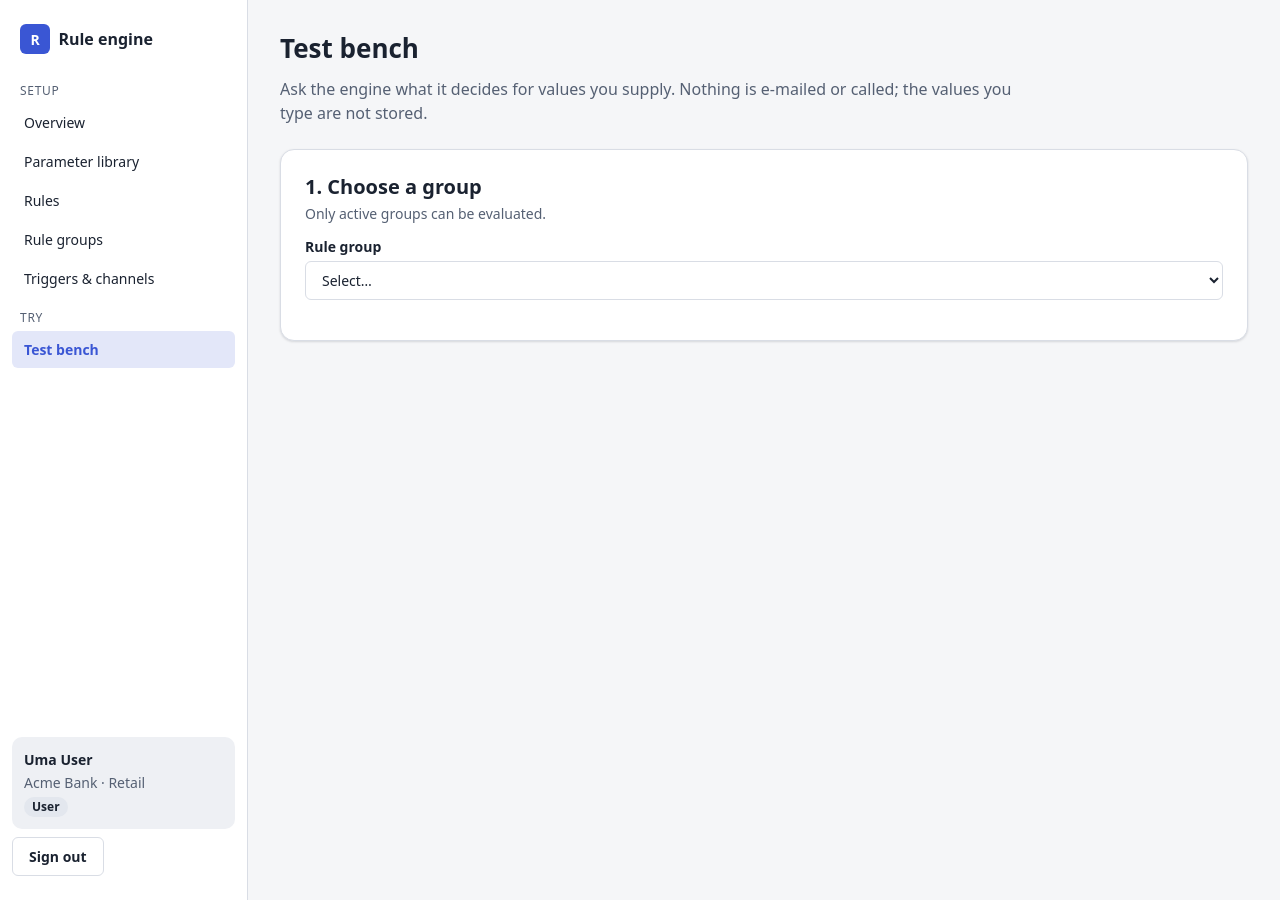
Test case: test bench › asks for the parameters the group reads, evaluates, and shows the decision rule by rule
Select "LOAN · Eligibility" in the dropdown labelled "Rule group": (764, 280) [305, 260, 1223, 300]
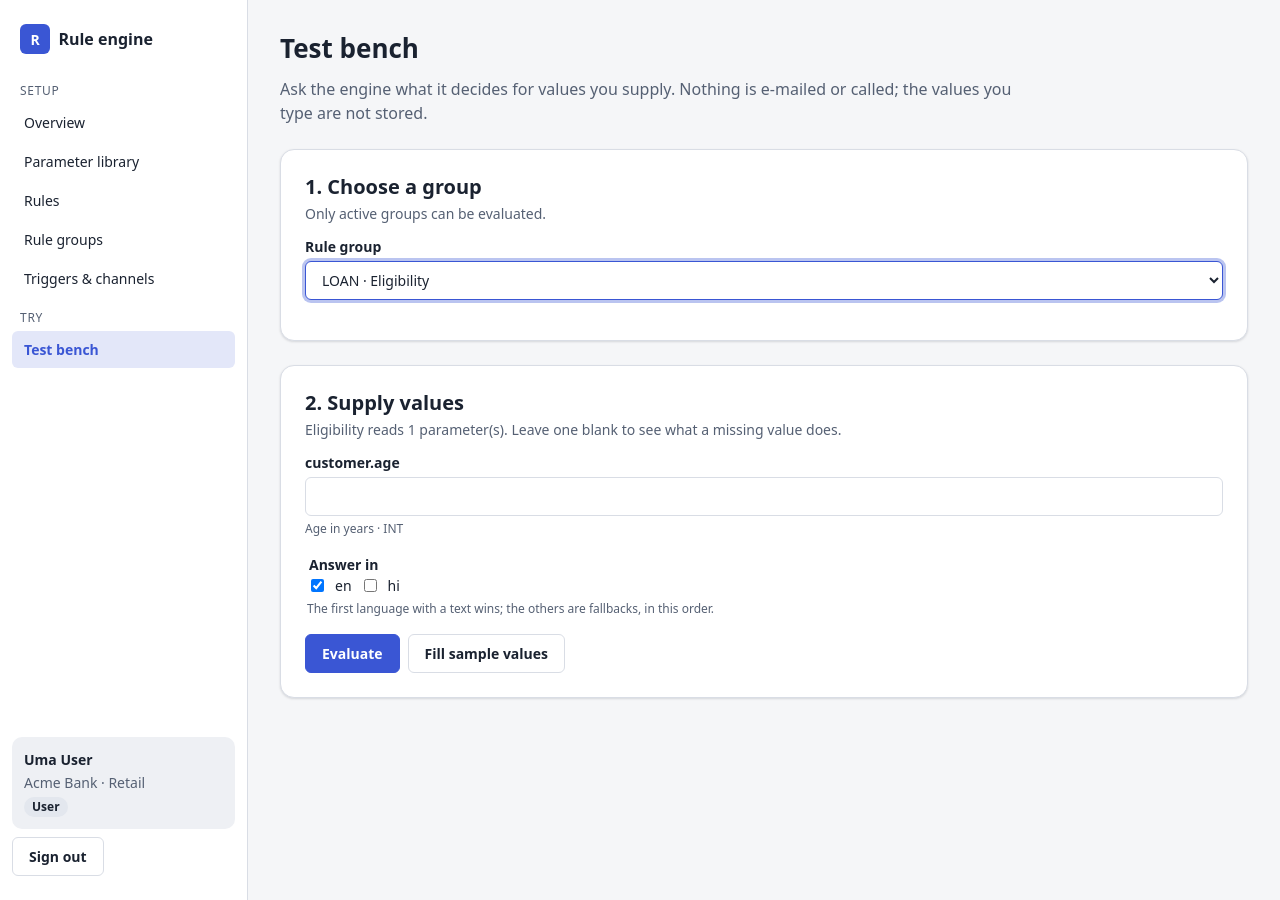
In the field labelled "customer.age": (764, 496) [305, 476, 1223, 516], type "16"
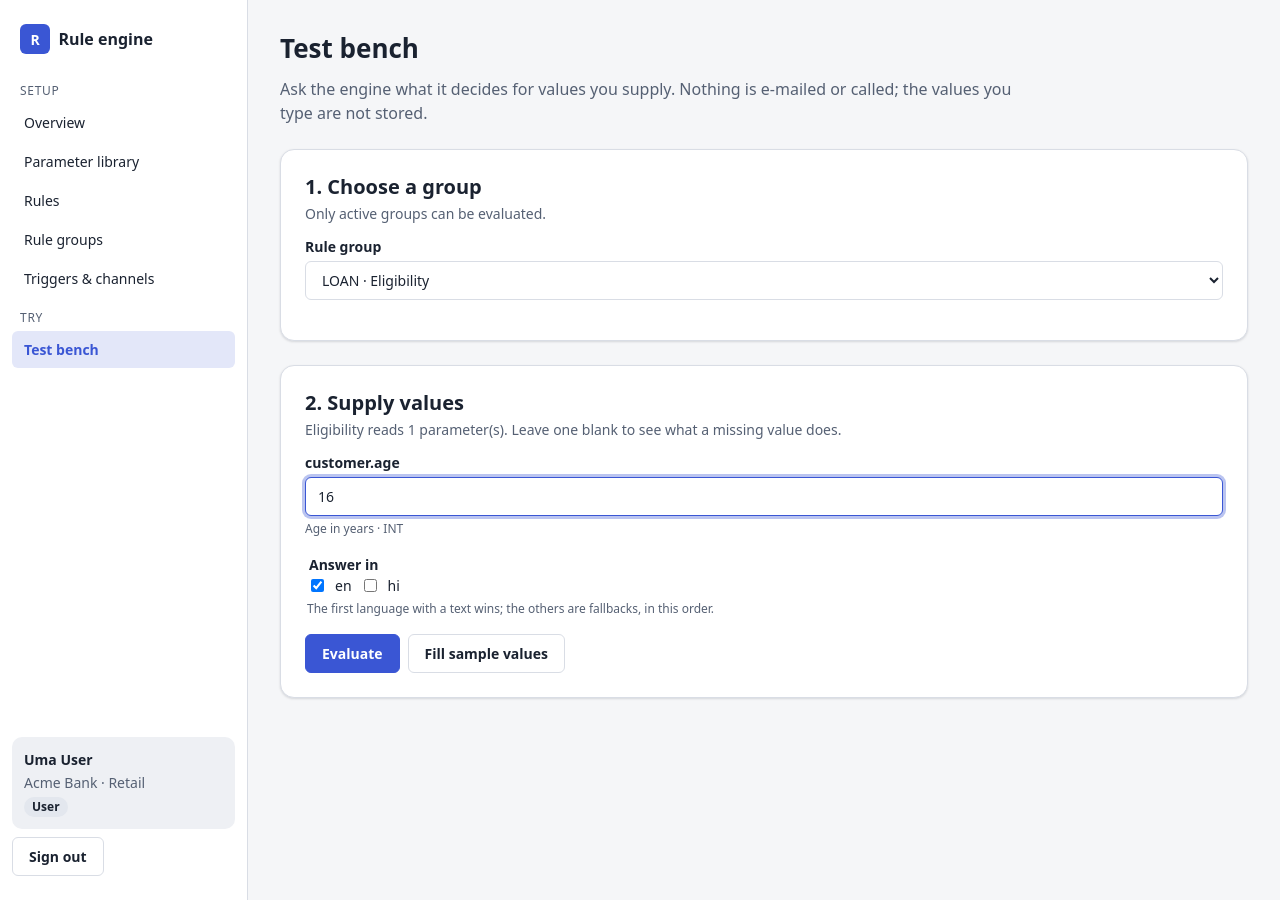
Click the checkbox labelled "hi": (370, 585) [364, 578, 377, 592]
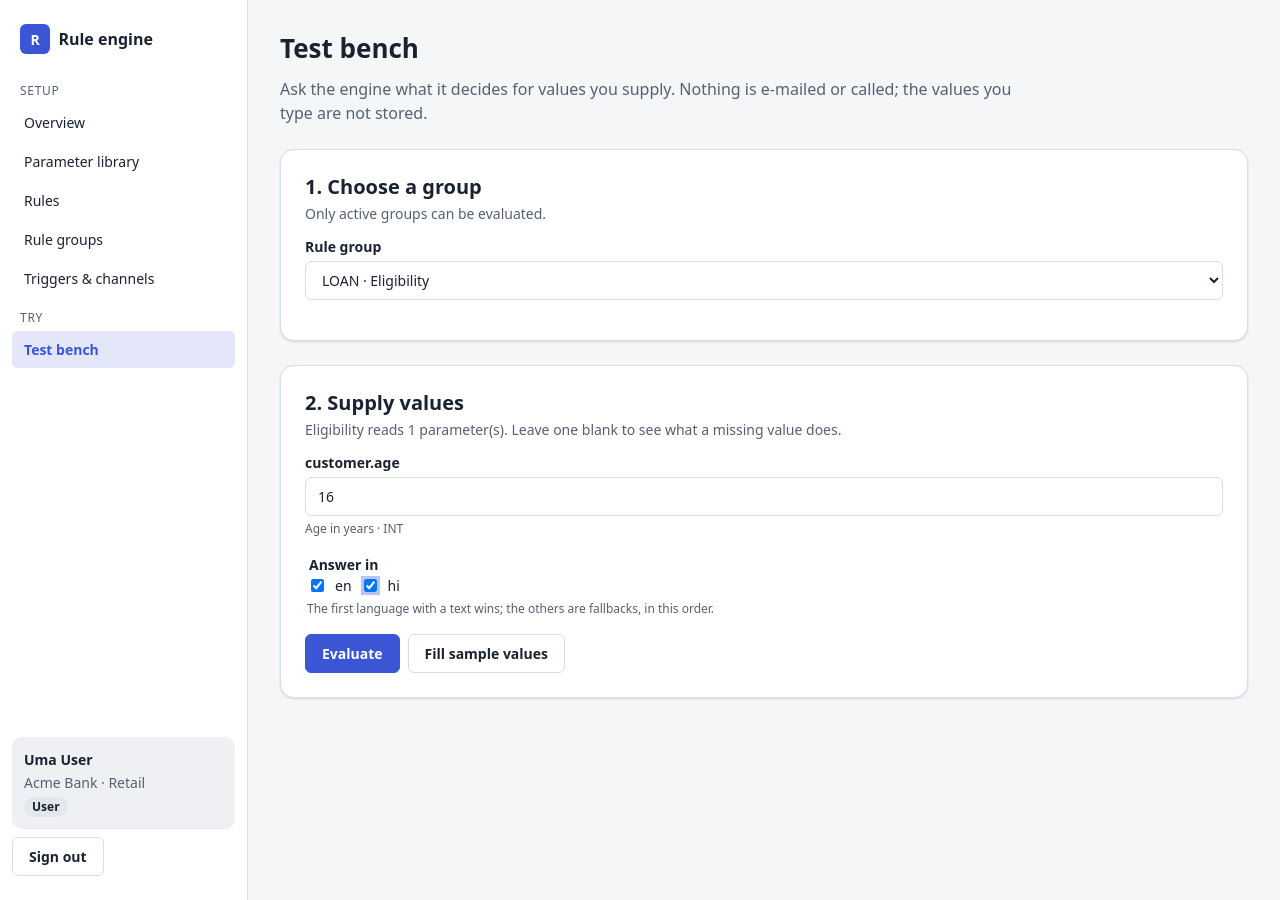
Click the button "Evaluate": (352, 653) [305, 634, 400, 672]
(page scrolled)
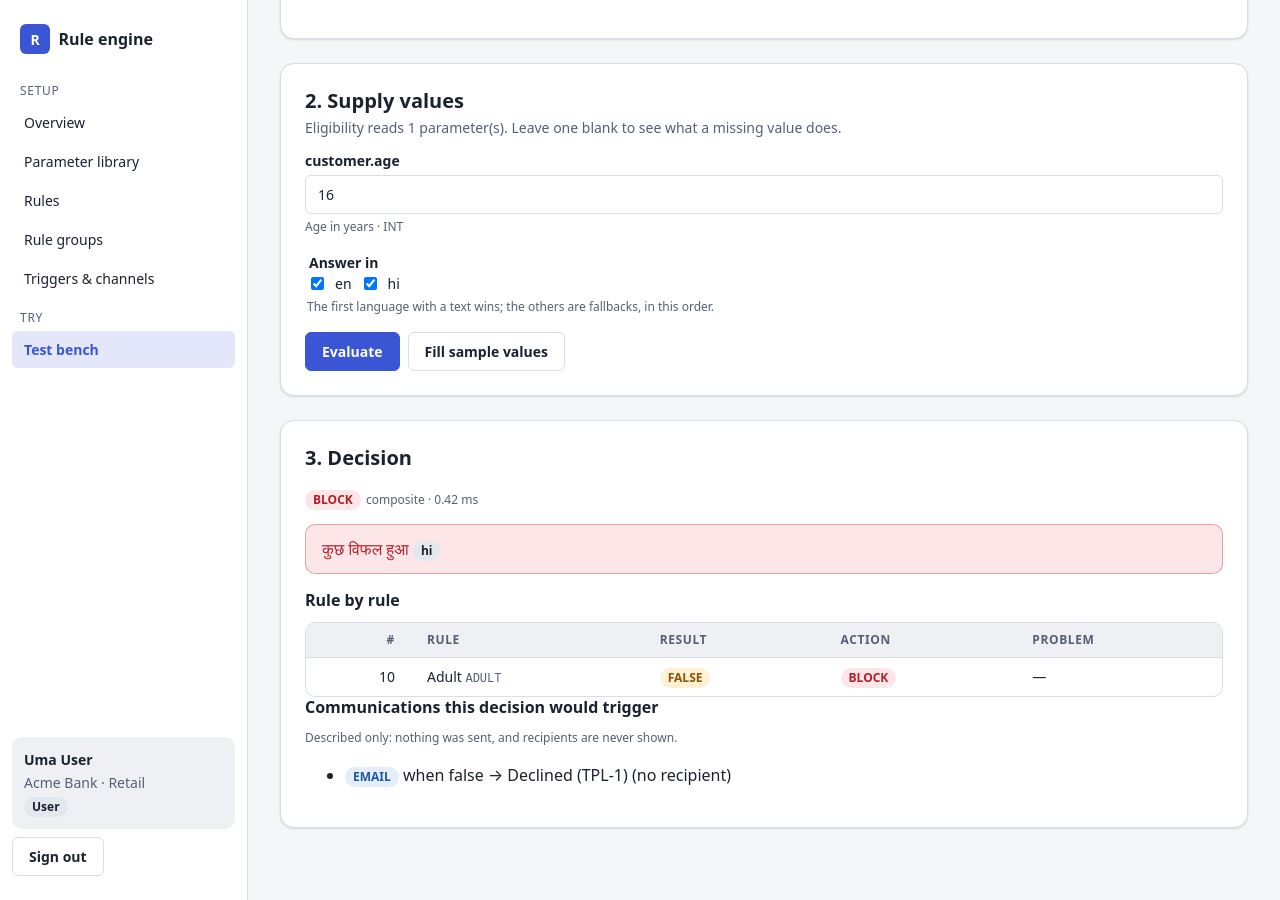
Expected: the text "कुछ विफल हुआ" is shown, [322, 538, 409, 560]
Expected: the text "BLOCK" next to "composite" is shown, [313, 490, 353, 508]
Expected: the text "Described only: nothing was sent" is shown, [305, 728, 677, 746]
